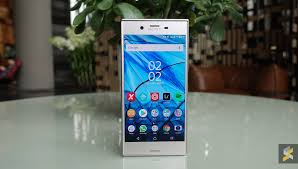sony: (118, 13, 188, 159)
